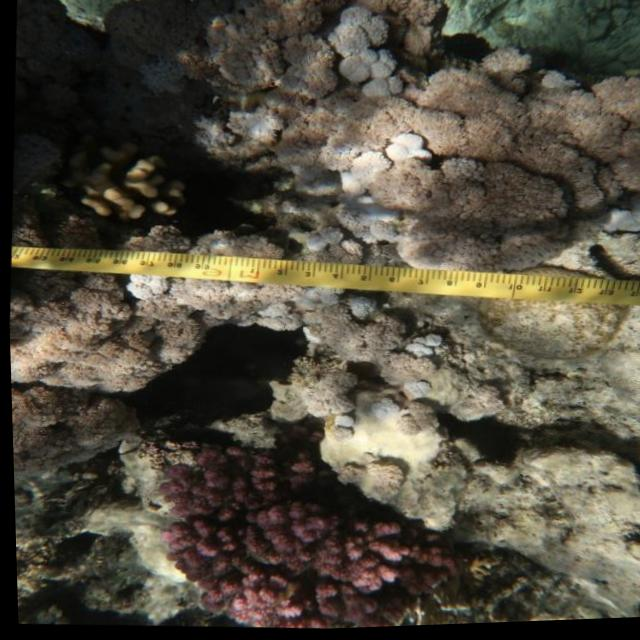Healthy Coral: (140, 425, 463, 636)
